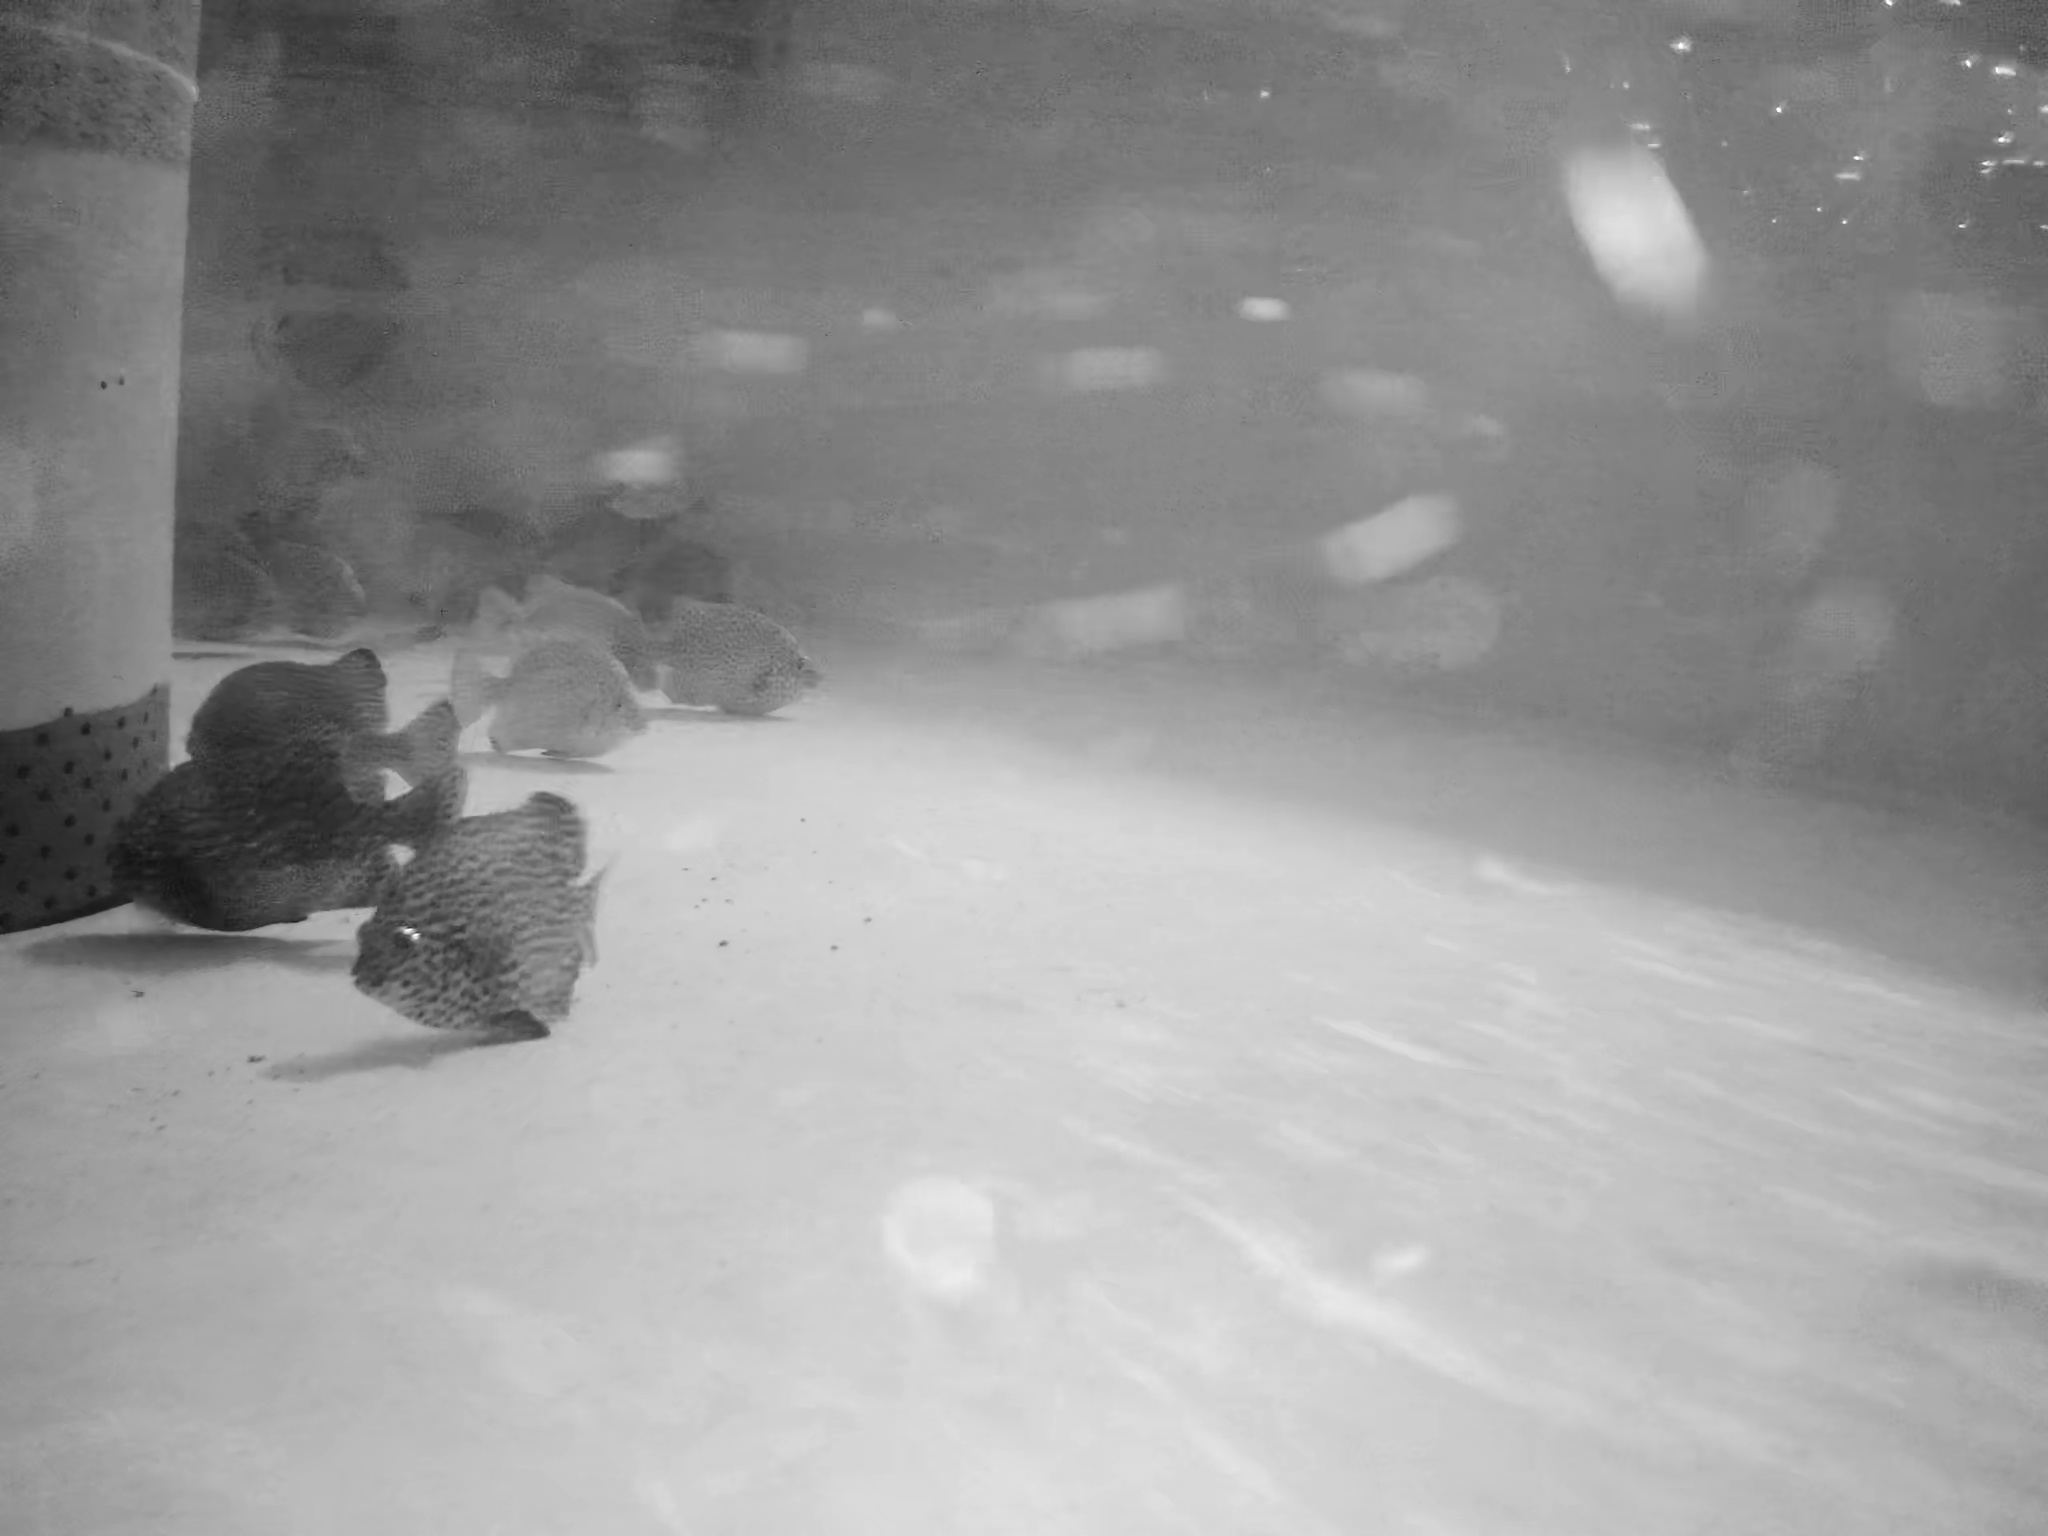fish: (81, 745, 461, 933), (356, 781, 618, 1034), (189, 650, 469, 813), (435, 637, 663, 758), (631, 599, 829, 710), (468, 578, 648, 686), (219, 532, 364, 642), (402, 495, 560, 592), (598, 520, 727, 589)
